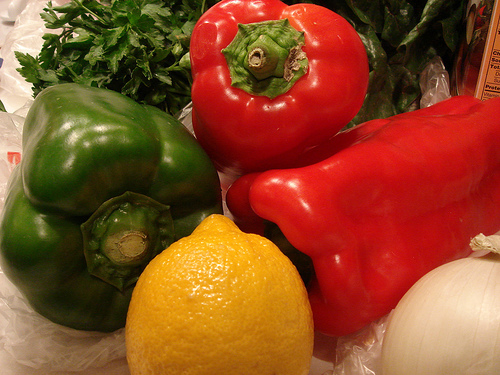capsicum: (224, 93, 499, 339), (0, 81, 225, 335), (189, 1, 369, 162)
